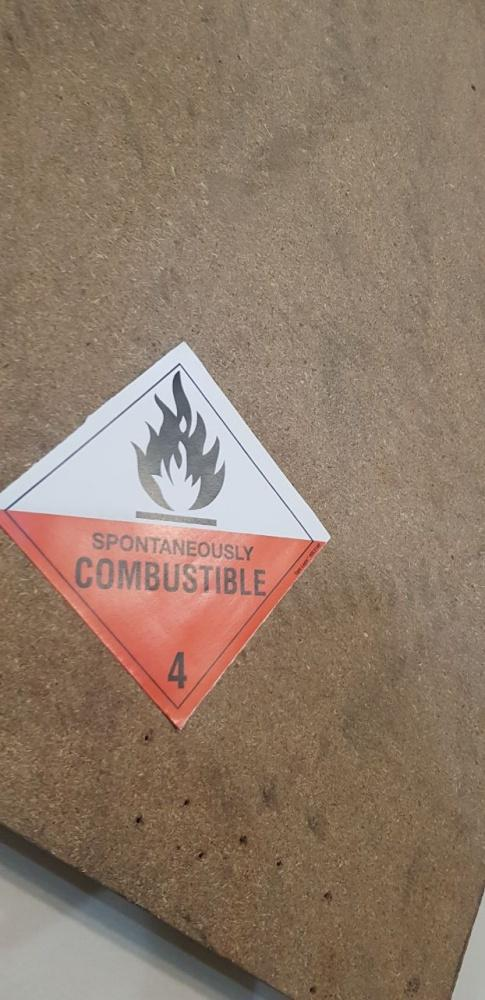spontaneously-combustible: (1, 340, 332, 736)
